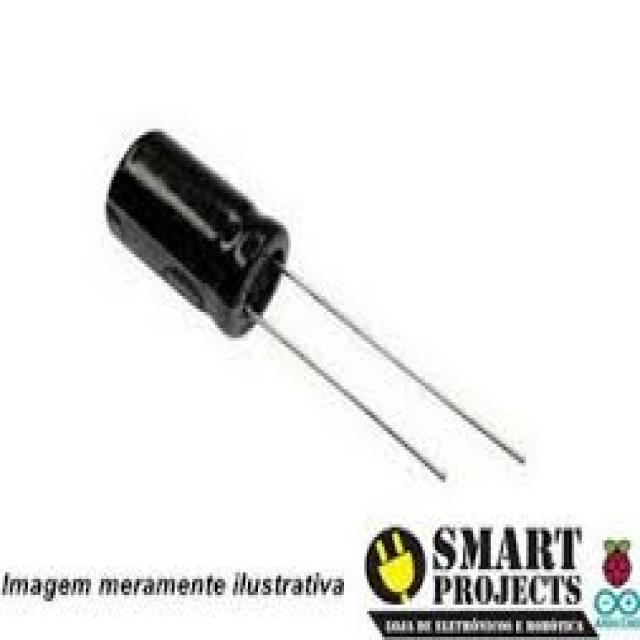Capacitor: (104, 138, 529, 486)
